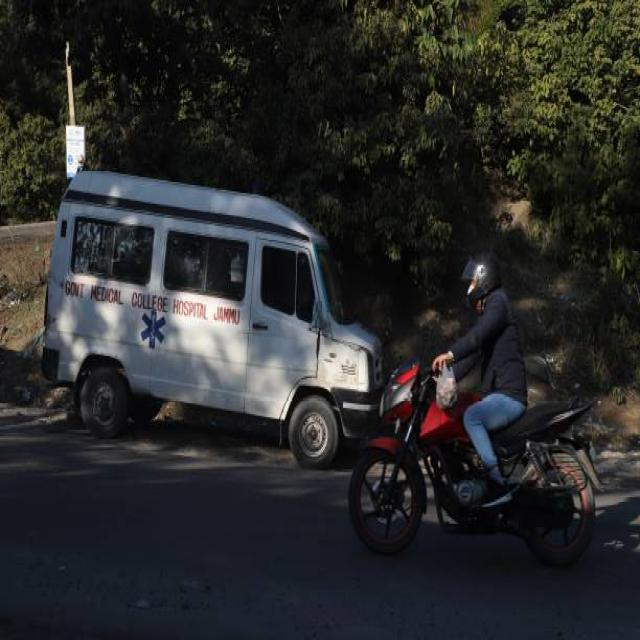ambulance: (38, 153, 386, 472)
